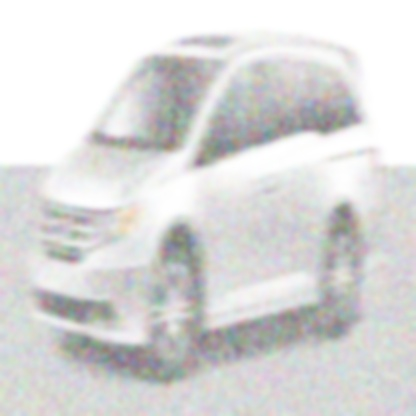Vehicle: (26, 25, 387, 388)
